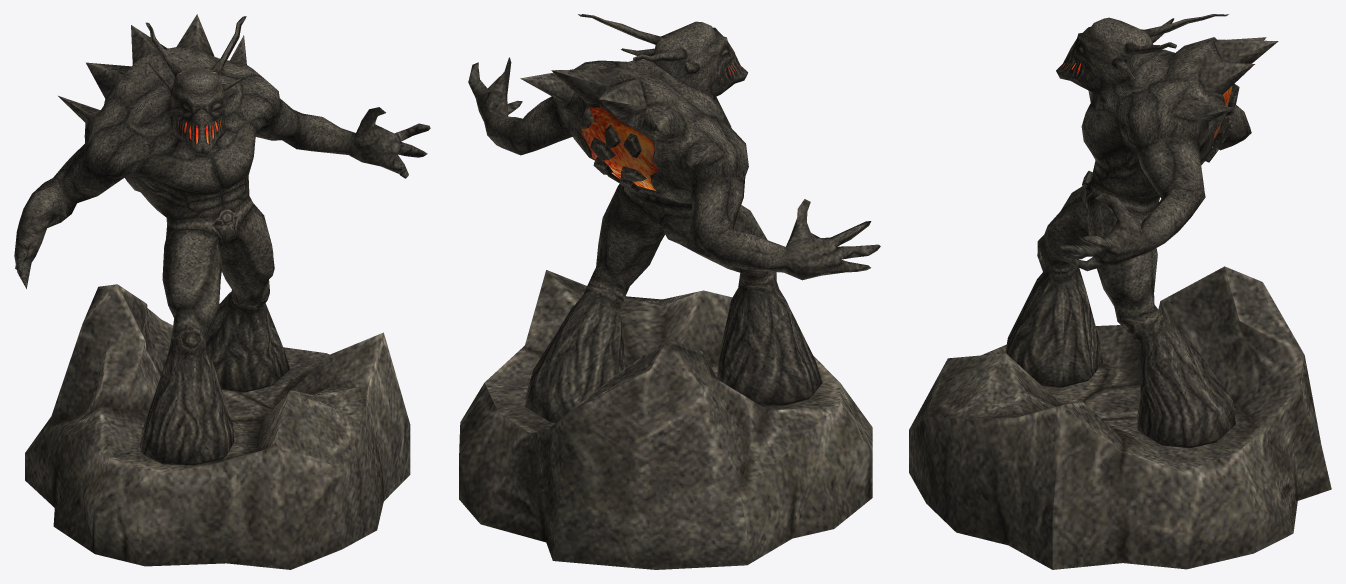
File: soldDemonStatueHota.dae
3 views of the same model, side by side, from view 1: azimuth 30°, elevation 25°; view 2: azimuth 150°, elevation 25°; view 3: azimuth 270°, elevation 25° (orthographic). The views are drawn at different scales.
Parts seen in each view (by area): view 1: SunDemonStoneHota; view 2: SunDemonStoneHota, SunDemonStoneHotaGlow; view 3: SunDemonStoneHota.
Part boxes in pixels (left/top/right/bottom): SunDemonStoneHota: left=14, top=14, right=430, bottom=569; SunDemonStoneHota: left=459, top=14, right=880, bottom=569; SunDemonStoneHotaGlow: left=580, top=65, right=740, bottom=190; SunDemonStoneHota: left=909, top=14, right=1331, bottom=569.
Bounding box in the file's own units: 4.21 × 4.56 × 3.7.
2 materials, 2 textured.
